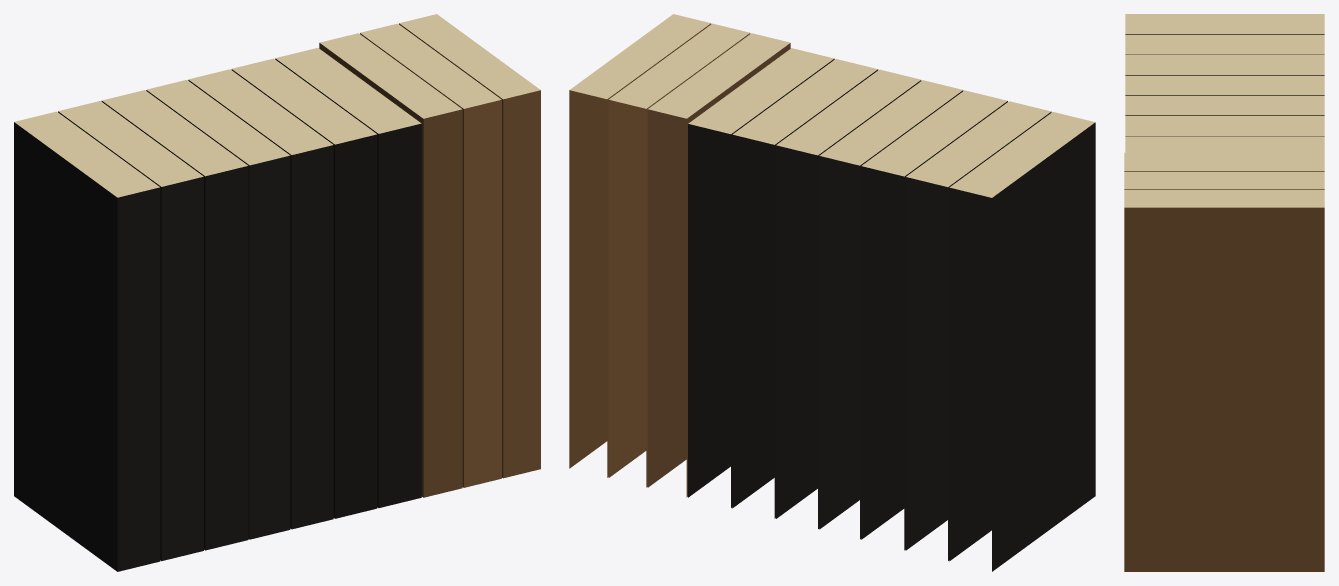
The model's file is bookrow_tall_2_lod.glb.
3 views of the same model, side by side, from view 1: azimuth 30°, elevation 25°; view 2: azimuth 150°, elevation 25°; view 3: azimuth 270°, elevation 25° (orthographic). The views are drawn at different scales.
Parts seen in each view (by area): view 1: bookrow_tall_2_lod; view 2: bookrow_tall_2_lod; view 3: bookrow_tall_2_lod.
Part boxes in pixels (bbox=[...]): bookrow_tall_2_lod: bbox=[14, 14, 540, 571]; bookrow_tall_2_lod: bbox=[569, 14, 1095, 571]; bookrow_tall_2_lod: bbox=[1124, 14, 1324, 571].
Size of the model in its own units: 0.4831 by 0.4136 by 0.2059.
